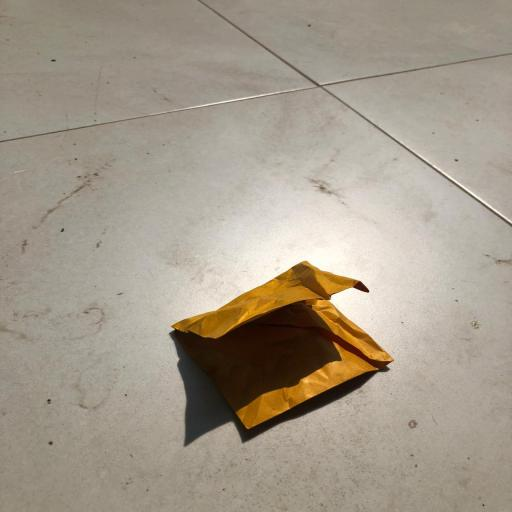waste: (151, 241, 404, 442)
